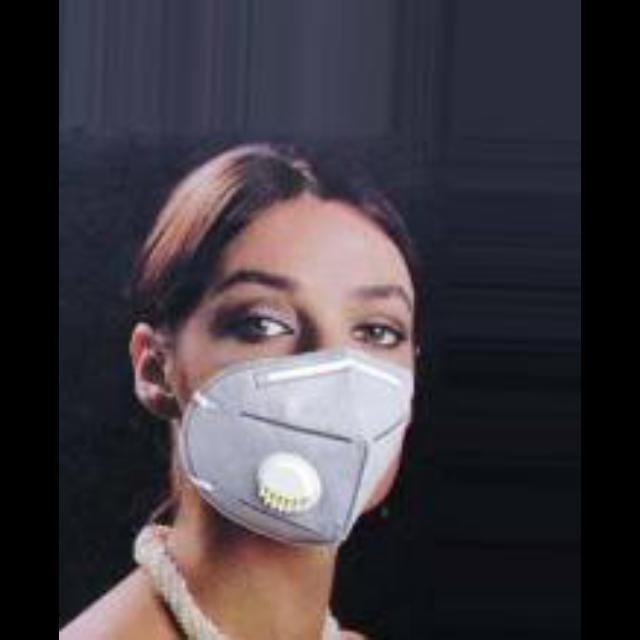suspicion: (170, 147, 456, 531)
